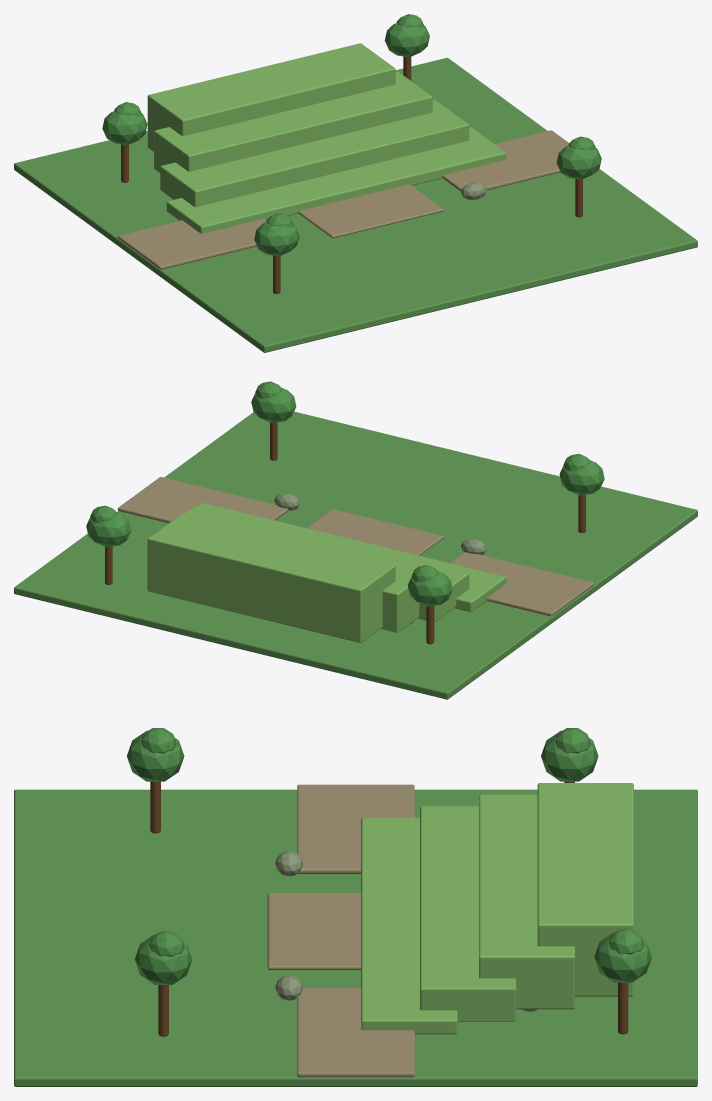
Rendered from chunk_ridge_overlook.fbx.
3 renders of one model, top to bottom at view 1: azimuth 30°, elevation 25°; view 2: azimuth 150°, elevation 25°; view 3: azimuth 270°, elevation 25°, orthographic. The views are drawn at different scales.
Visible parts, largest first — view 1: chunk_ridge_overlook; view 2: chunk_ridge_overlook; view 3: chunk_ridge_overlook.
Part boxes in pixels (x1,y1,x2,y2): chunk_ridge_overlook: [14, 14, 697, 352]; chunk_ridge_overlook: [14, 381, 697, 699]; chunk_ridge_overlook: [14, 728, 697, 1086].
Size of the model in its own units: 256 by 47.2 by 256.
